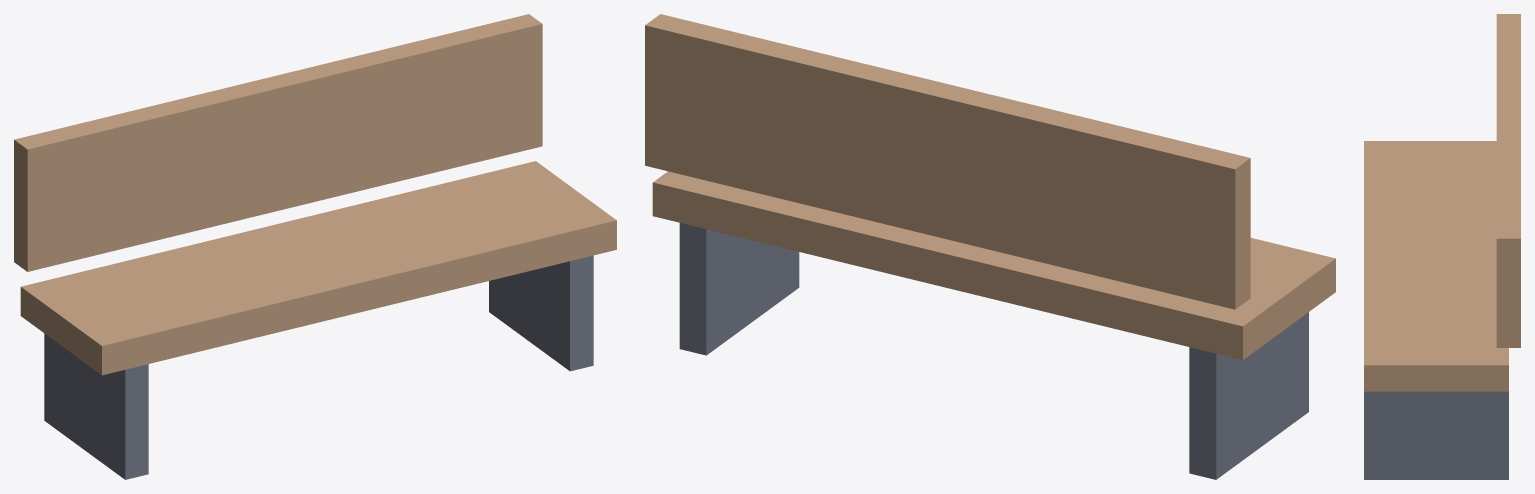
Rendered from bench.glb.
3 renders of one model, left to right at view 1: azimuth 30°, elevation 25°; view 2: azimuth 150°, elevation 25°; view 3: azimuth 270°, elevation 25°, orthographic. The views are drawn at different scales.
Parts seen in each view (by area): view 1: Back, Seat, Leg-1, Leg1; view 2: Back, Seat, Leg-1, Leg1; view 3: Seat, Leg1, Back.
Boxes of the visible parts, x1,y1,x2,y2 form: Back: (14,14,542,271); Seat: (20,161,616,375); Leg-1: (44,333,148,479); Leg1: (489,255,593,371); Back: (645,14,1250,309); Seat: (652,171,1335,359); Leg-1: (1189,312,1308,479); Leg1: (679,223,799,355); Seat: (1364,141,1508,391); Leg1: (1364,391,1508,479); Back: (1496,14,1520,347).
Bounding box in the file's own units: 2.2 × 1.15 × 0.65.
